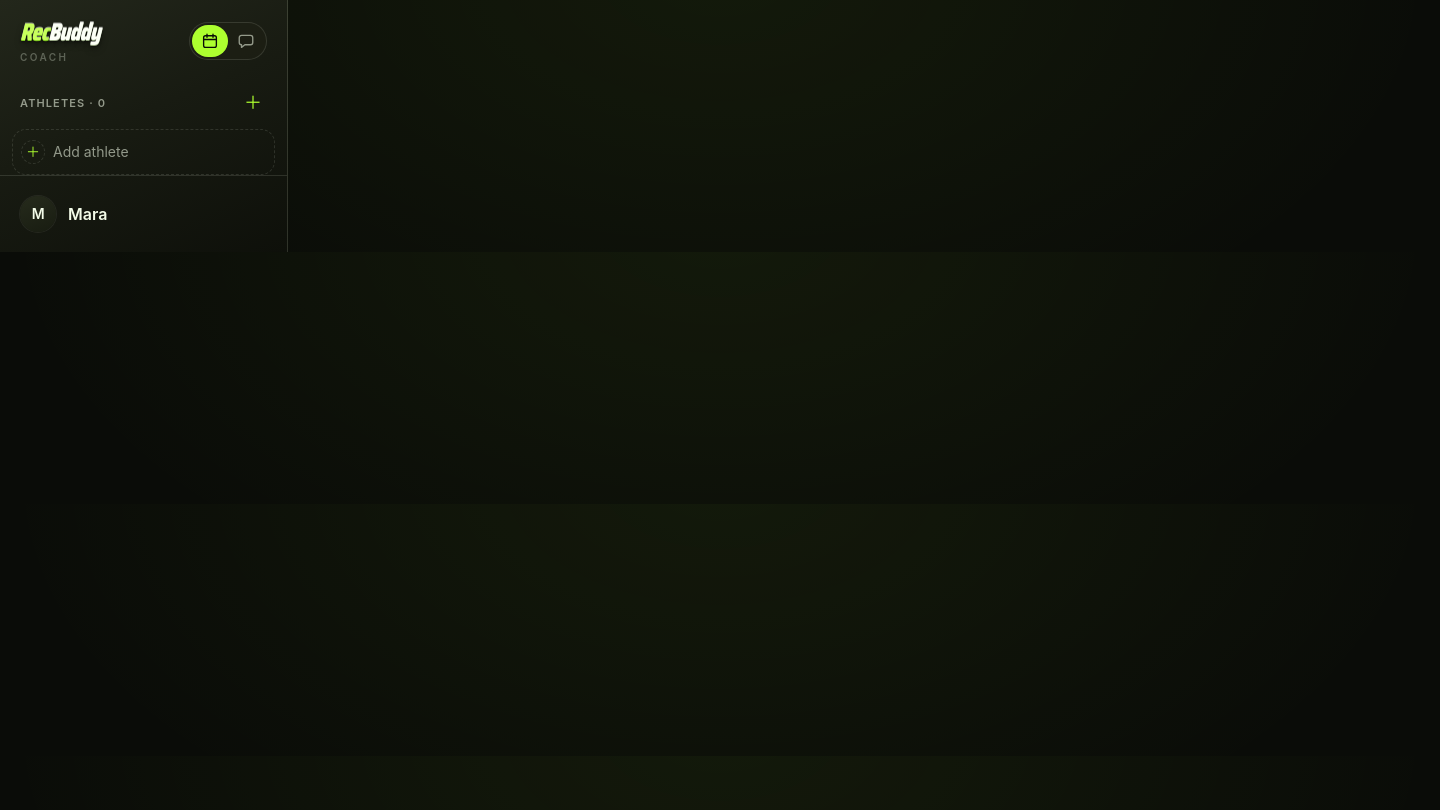
Test: the coach menu is a glass panel and Log out is red
Click the button "M Mara" at (38, 214), box [12, 188, 275, 240]
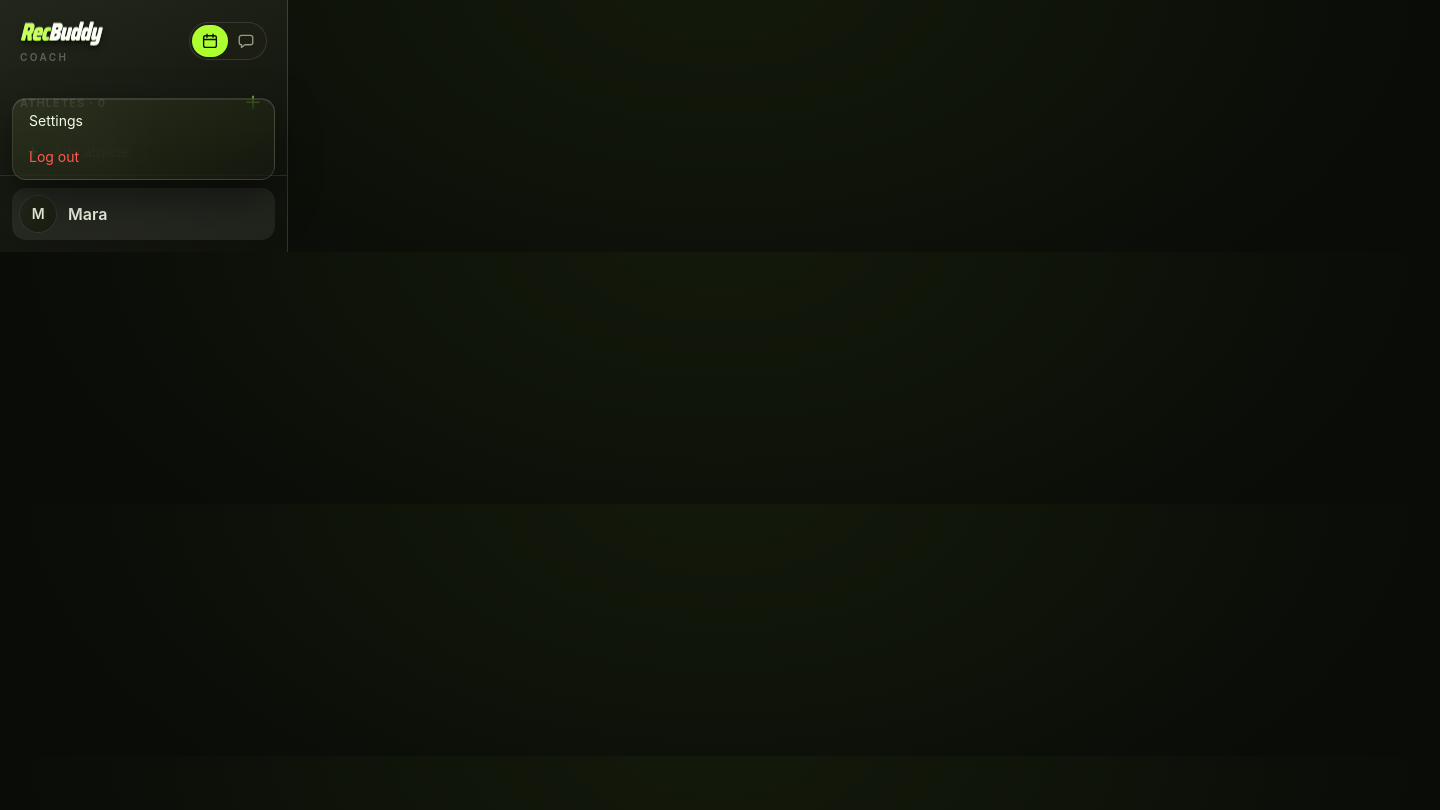
Result: the button "M Mara" is expanded at [12, 188, 275, 240]
# Escape or a click elsewhere closes it
Press Escape
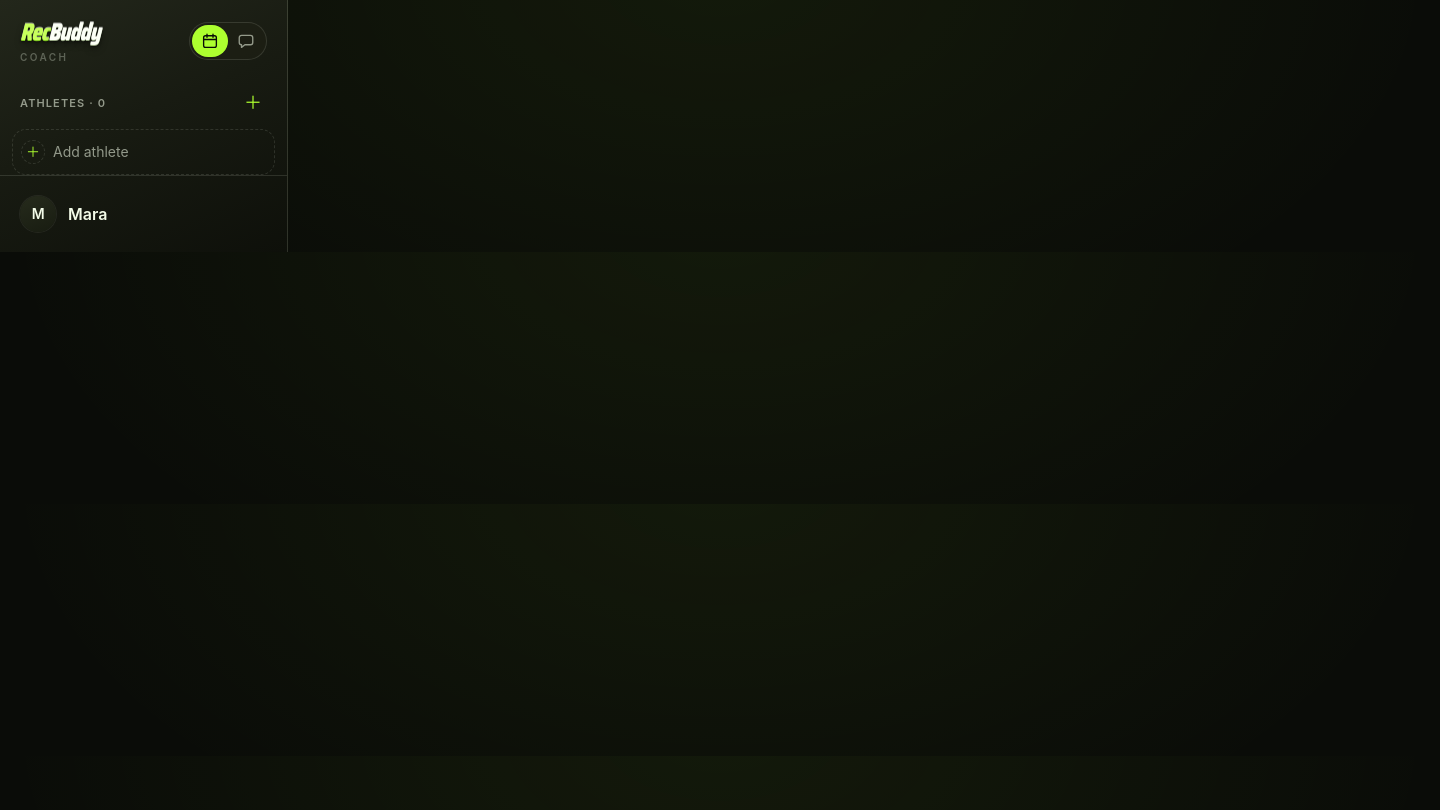
Result: the button "Log out" is gone
Click the button "M Mara" at (38, 214), box [12, 188, 275, 240]
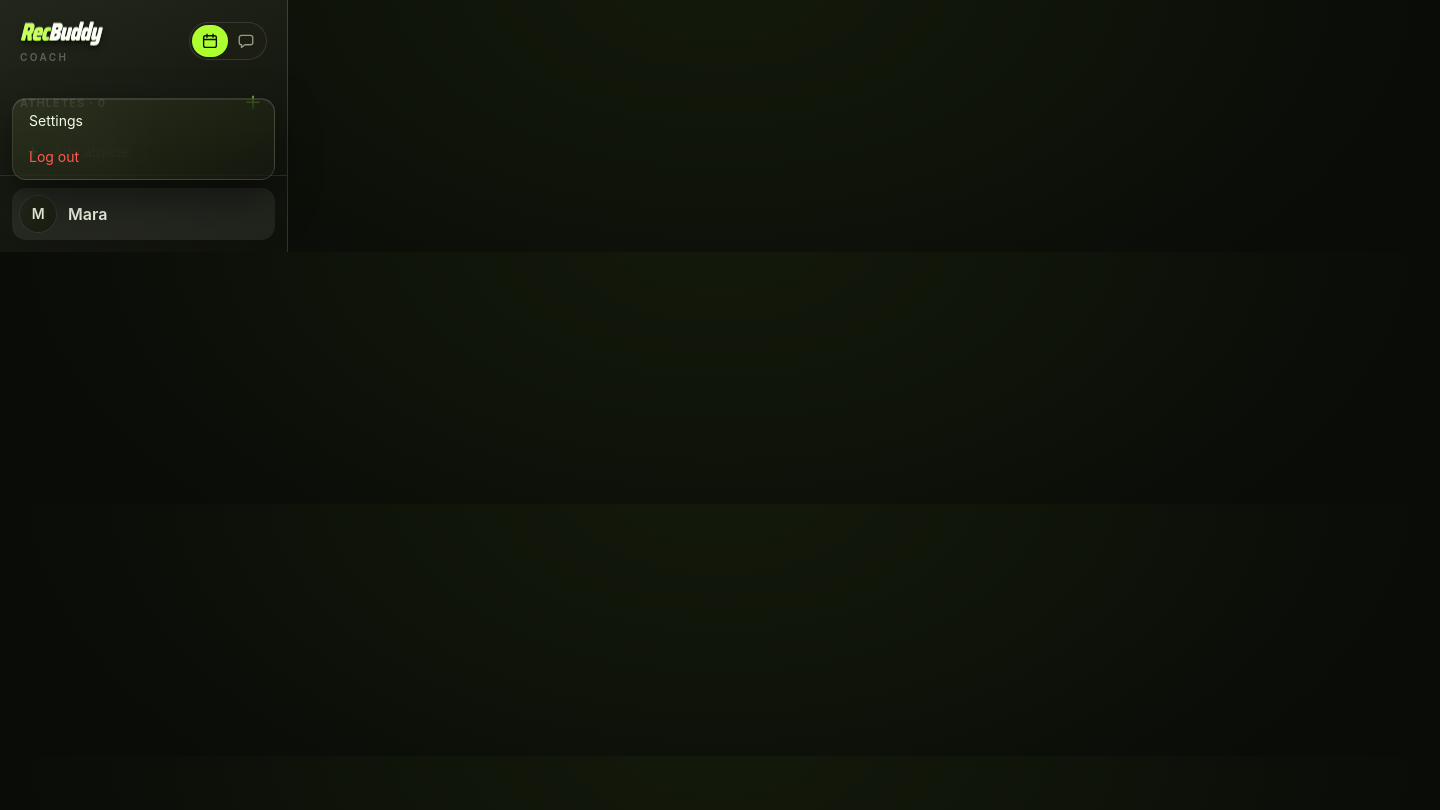
Press the mouse on the element that starts with "Rec" at (720, 126), box [0, 0, 1439, 252]
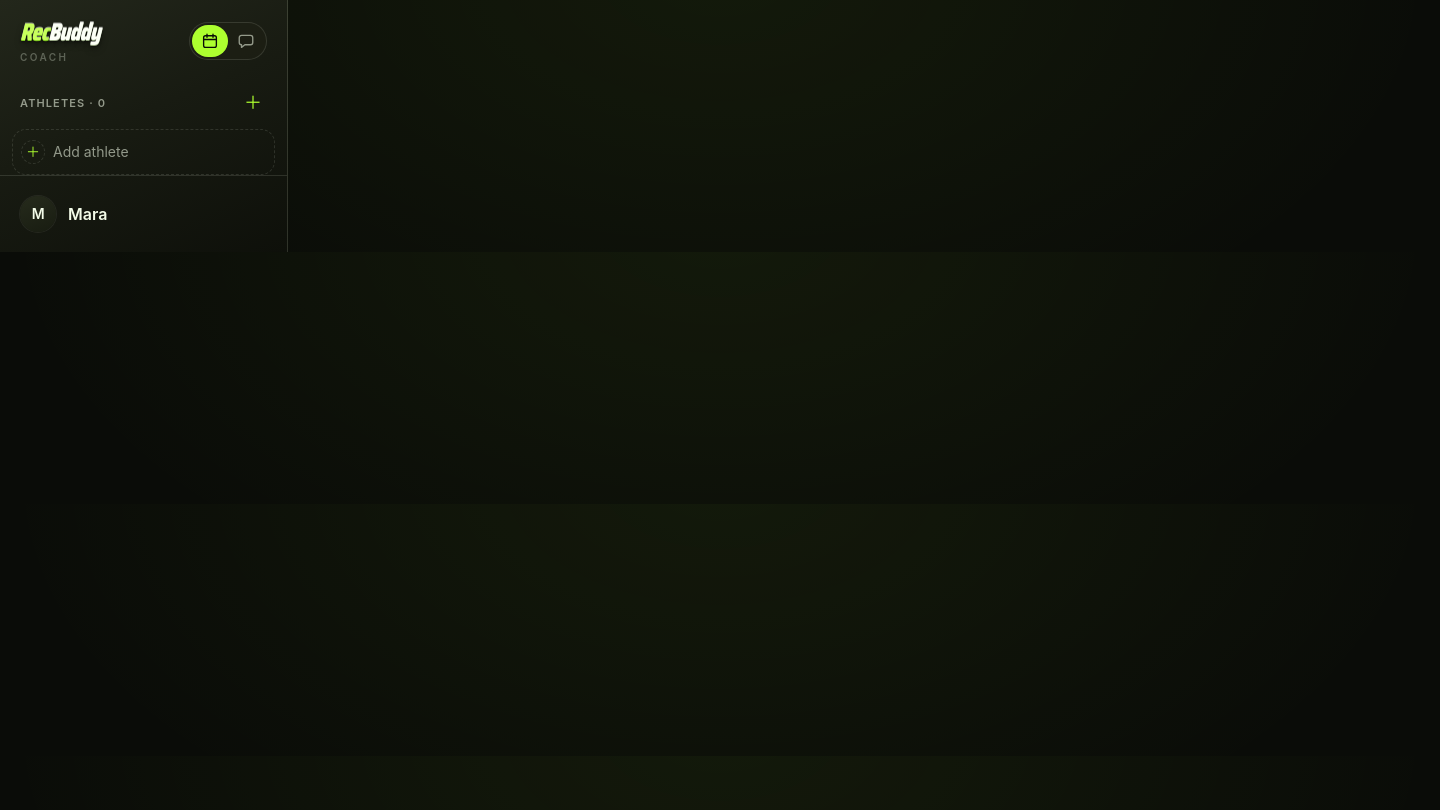
Result: the button "Log out" is gone
